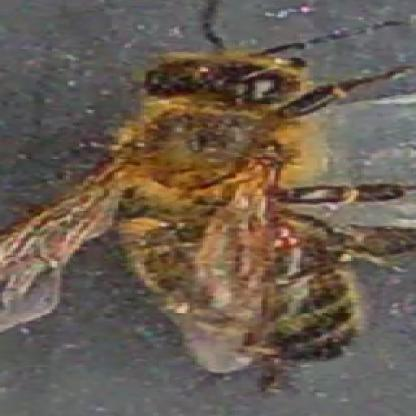bee: (94, 47, 366, 368)
vaoora: (270, 225, 295, 253)
